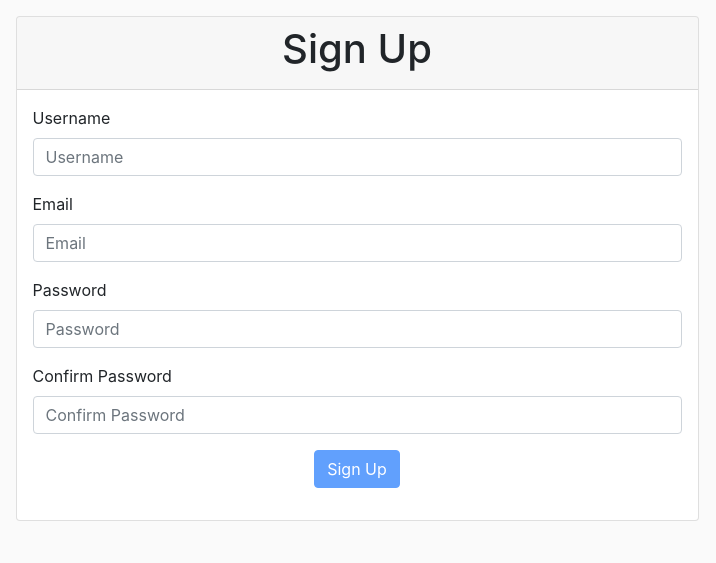
Scenario: SignUp Page › Interactions › displays Password cannot be null for password
The image size is (716, 563).
Type "user01" into the field with test id "username" at (357, 157), box [32, 138, 682, 176]
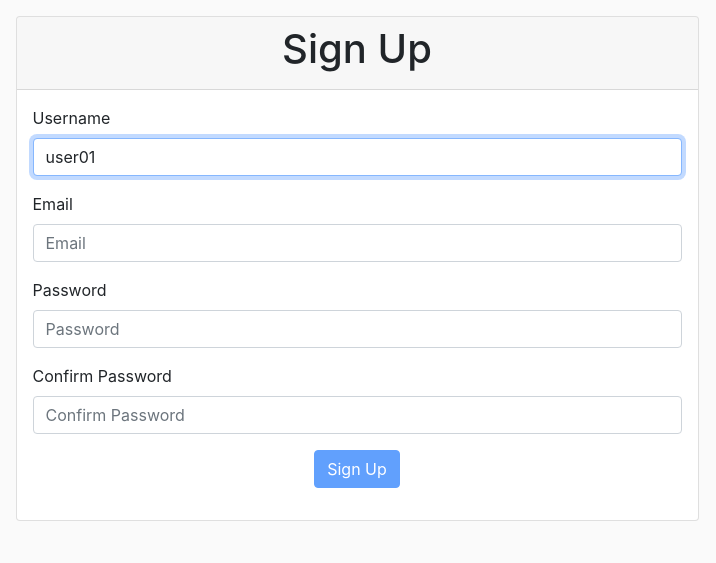
Type "!123456Pa" into the password field with test id "password" at (357, 329), box [32, 310, 682, 348]
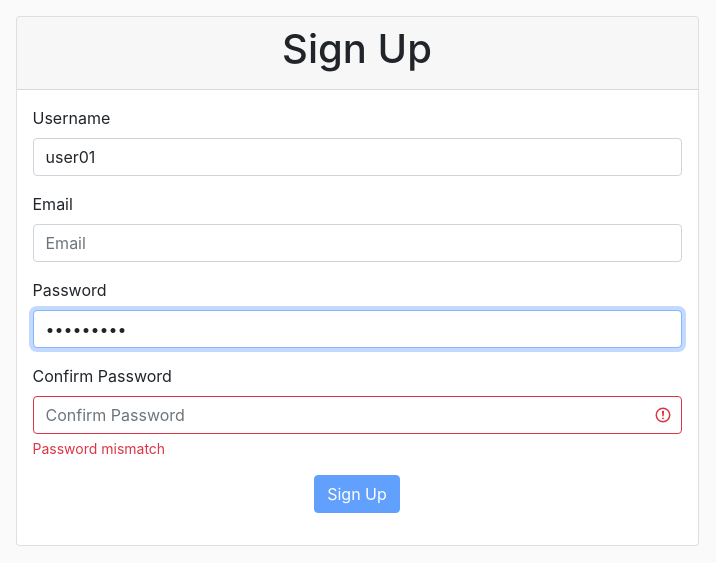
Type "!123456Pa" into the password field with test id "confirmPassword" at (357, 415), box [32, 396, 682, 434]
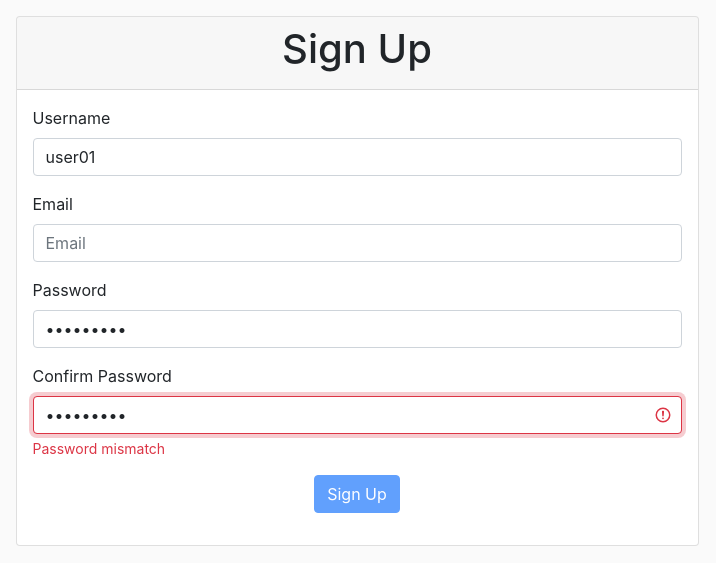
Type "user01@domain.com" into the field with test id "email" at (357, 243), box [32, 224, 682, 262]
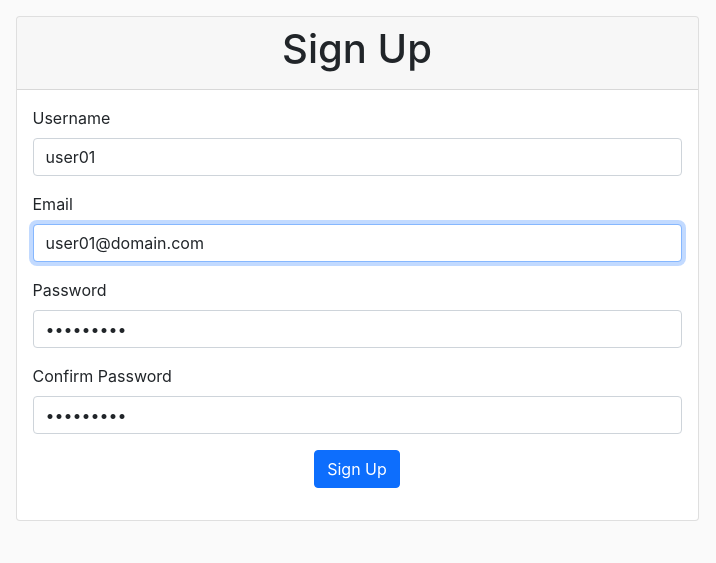
Click the button "Sign Up" at (357, 469), box [314, 450, 400, 488]
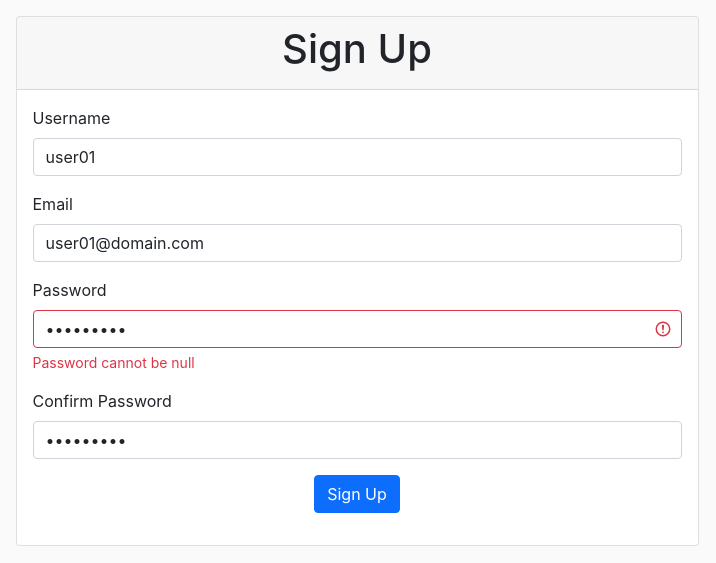
expect the text "Password cannot be null" is shown: met, box [32, 354, 195, 371]
